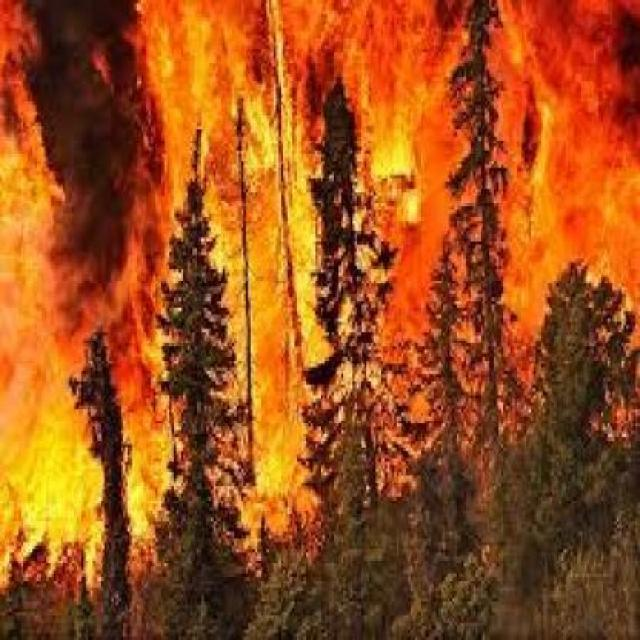Fire: (16, 0, 452, 583)
